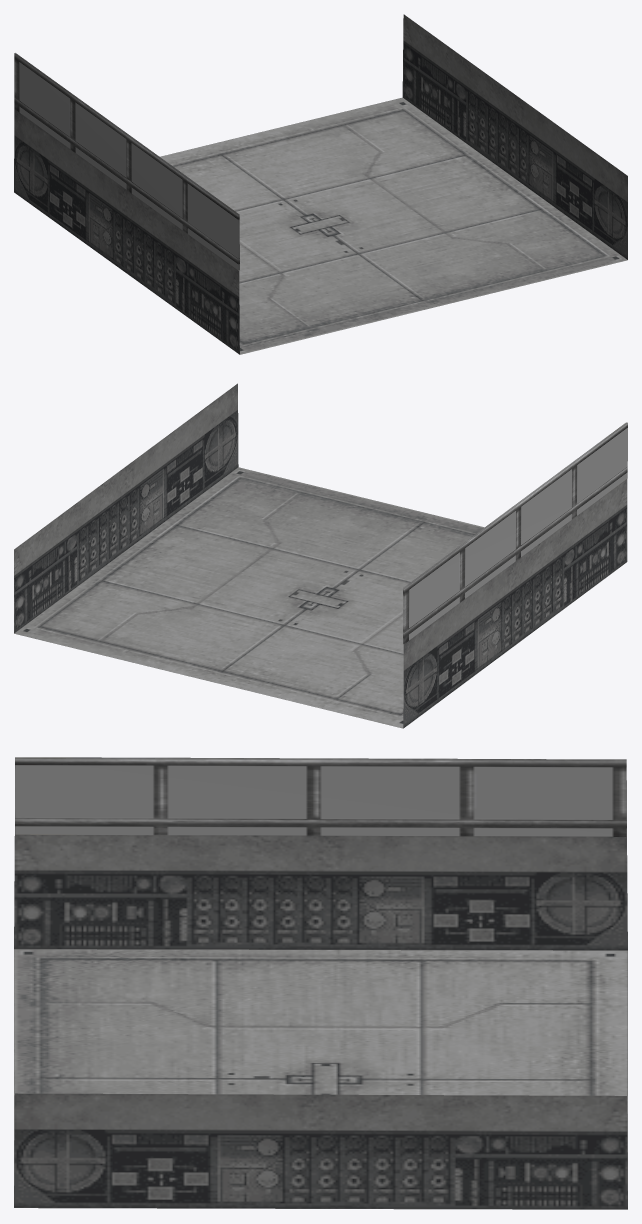
The model's file is Trench.fbx.
3 renders of one model, top to bottom at view 1: azimuth 30°, elevation 25°; view 2: azimuth 150°, elevation 25°; view 3: azimuth 270°, elevation 25°, orthographic. The views are drawn at different scales.
Visible parts, largest first — view 1: north:polySurface12317; view 2: north:polySurface12317; view 3: north:polySurface12317.
Part boxes in pixels (x1=…): north:polySurface12317: x1=14, y1=14, x2=627, y2=354; north:polySurface12317: x1=14, y1=383, x2=627, y2=728; north:polySurface12317: x1=14, y1=757, x2=627, y2=1209.
Bounding box in the file's own units: 1 × 0.3485 × 1.
Materials: 2 (2 with a texture image).
